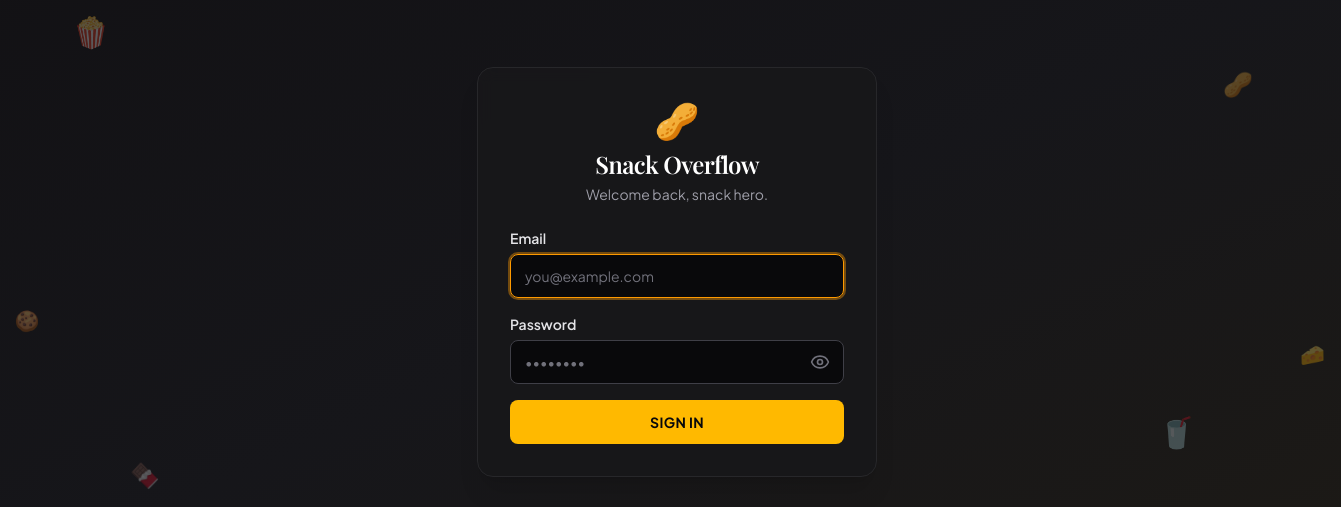
LoginPage › toggles the password field type
Later steps or results of the test are not shown.
Step 1. Click the button named "Show password" → {"x": 820, "y": 362}, box [796,340,844,384]
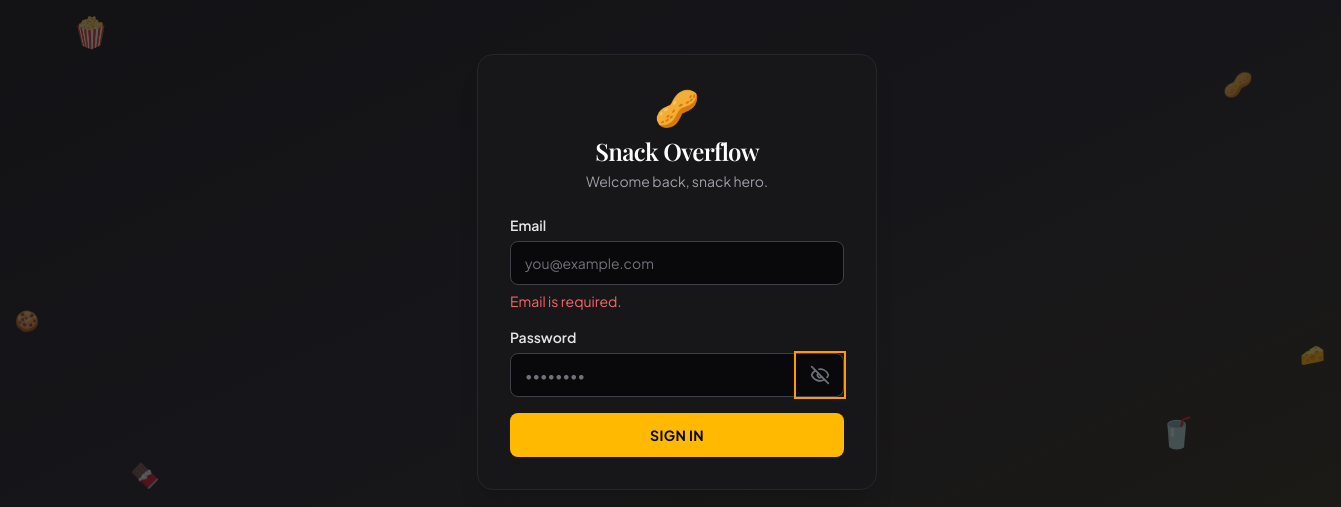
Check: the button named "Hide password" is shown, box [796,353,844,397]
